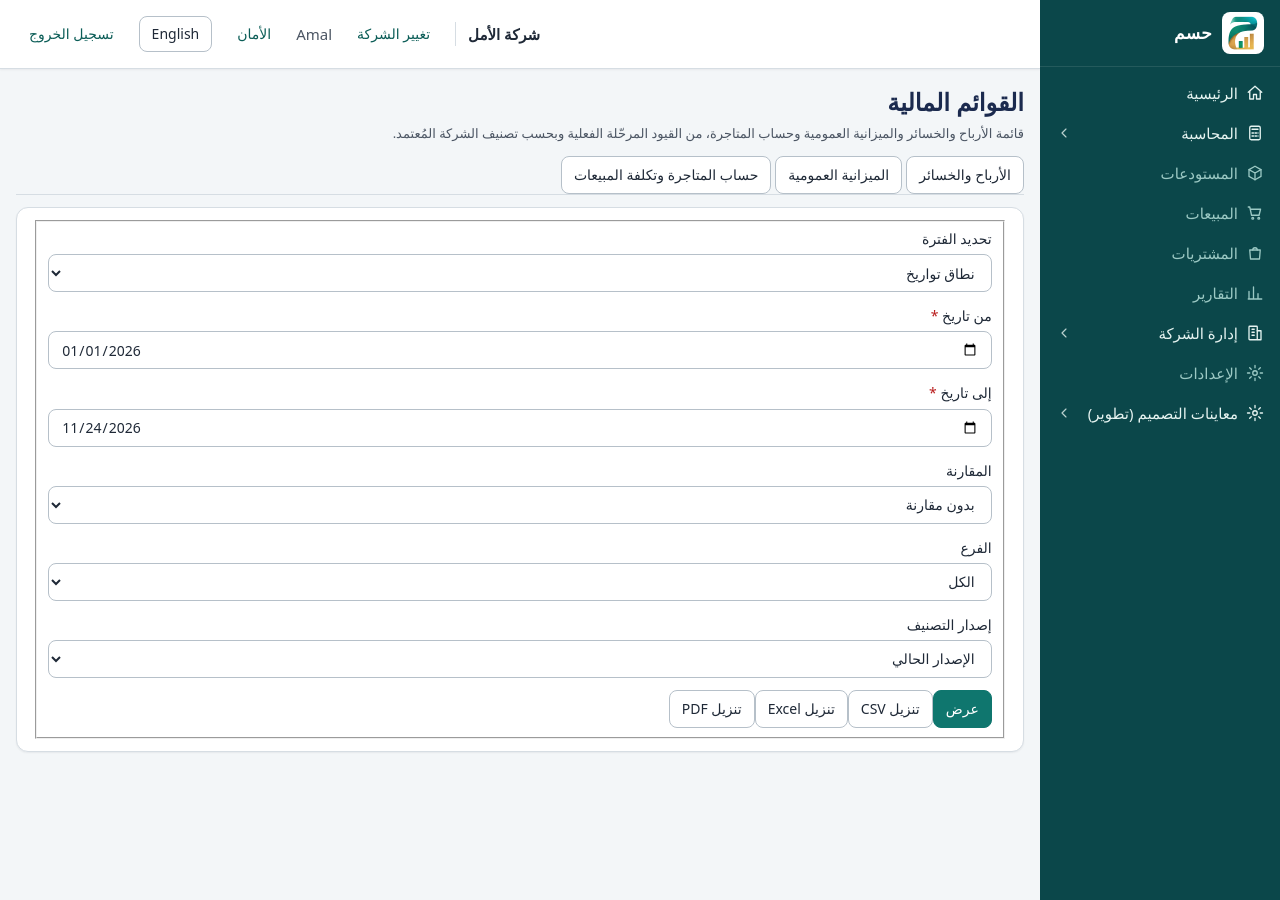
Test: financial statements screen › explains a trading account that does not apply and shows no table
expect the element with test id "company-name" is shown: met, box [455,22,540,46]
Step 1. Click the tab "حساب المتاجرة وتكلفة المبيعات" → (666, 175), box [561,156,771,194]
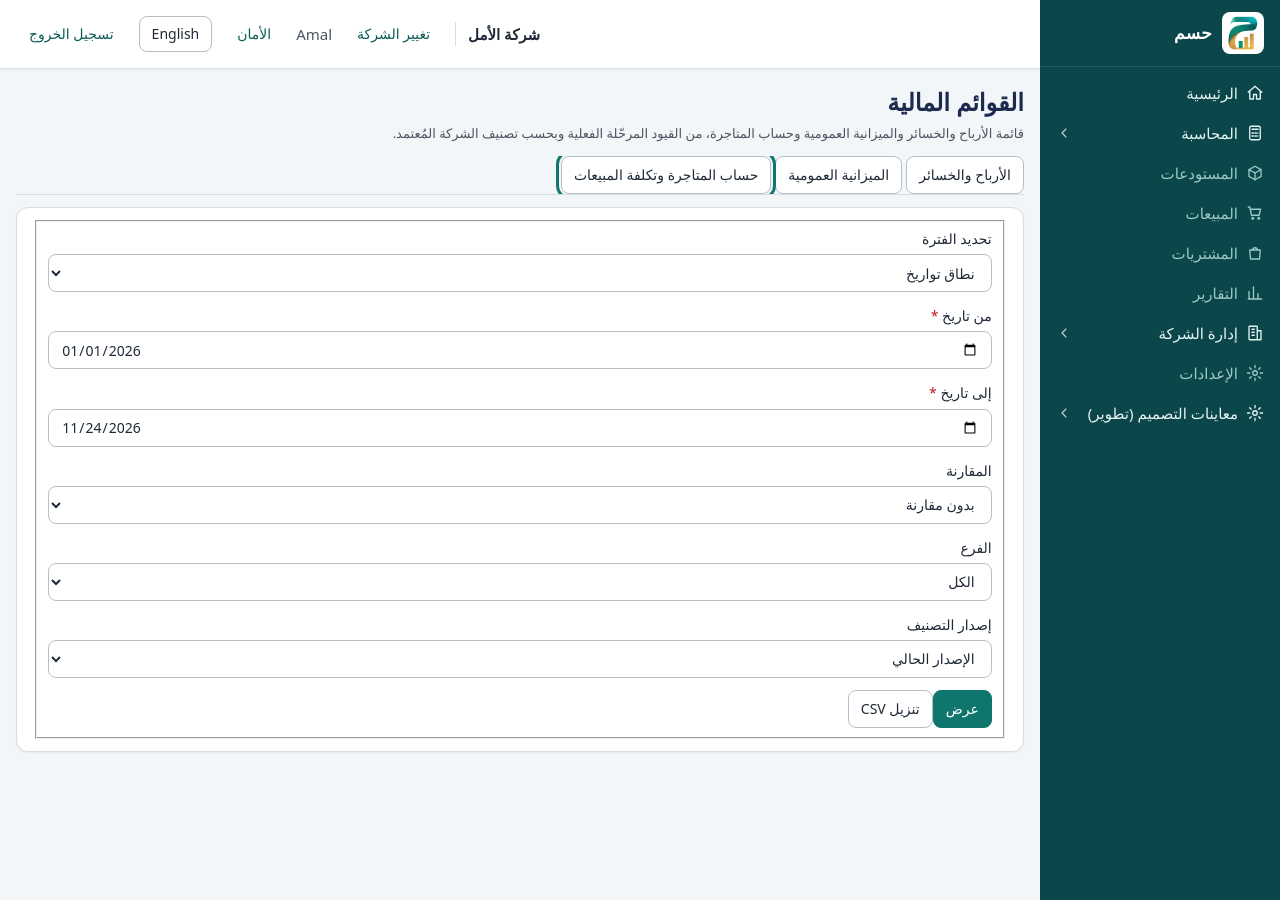
Step 2. Click the button "عرض" → (962, 709), box [933,690,992,728]
(page scrolled)
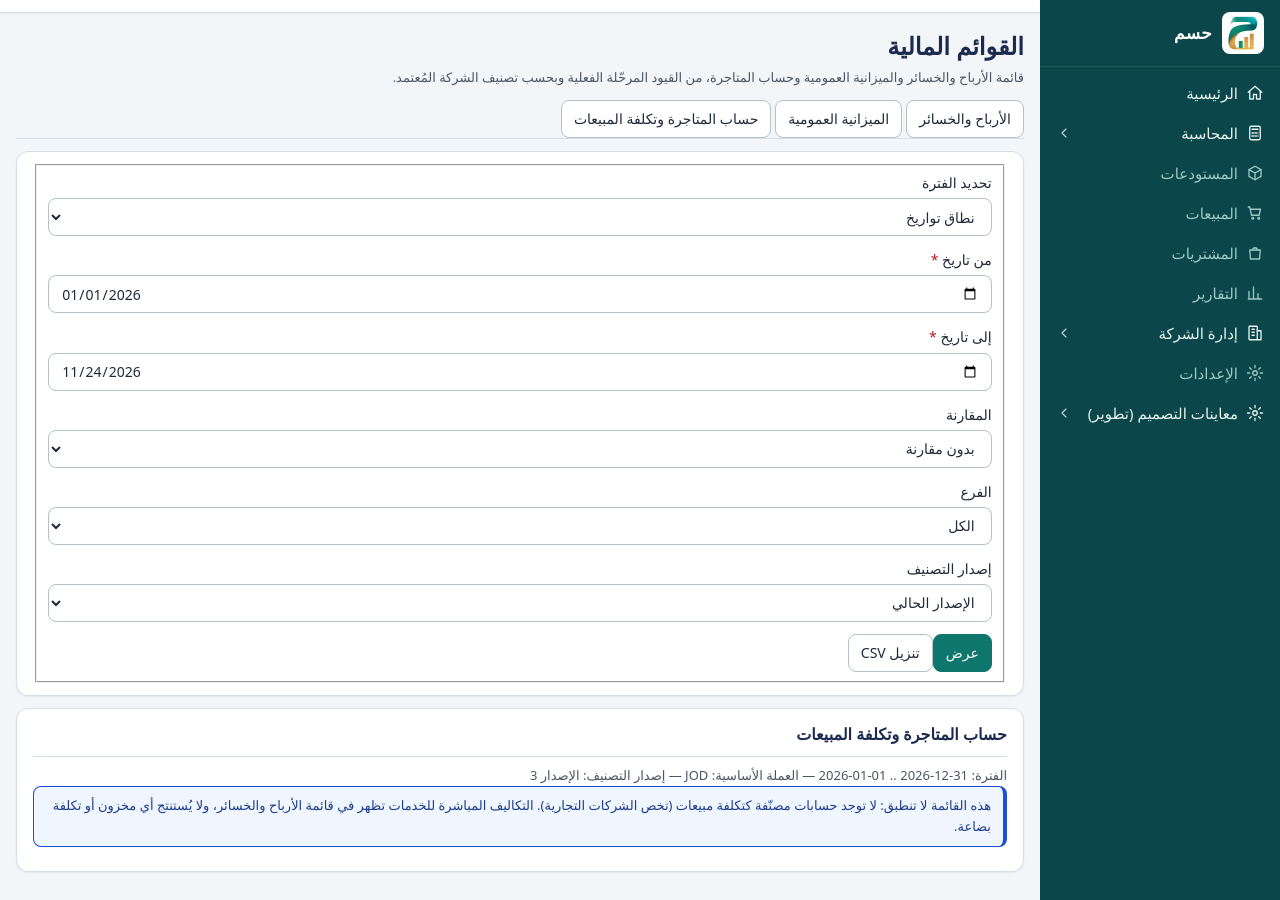
expect the message with test id "st-not-applicable" shows "هذه القائمة لا تنطبق: لا توجد حسابات مصنّفة كتكلفة مبيعات (تخص الشركات التجارية). التكاليف المباشرة للخدمات تظهر في قائمة الأرباح والخسائر، ولا يُستنتج أي مخزون": met, box [53,796,991,835]
